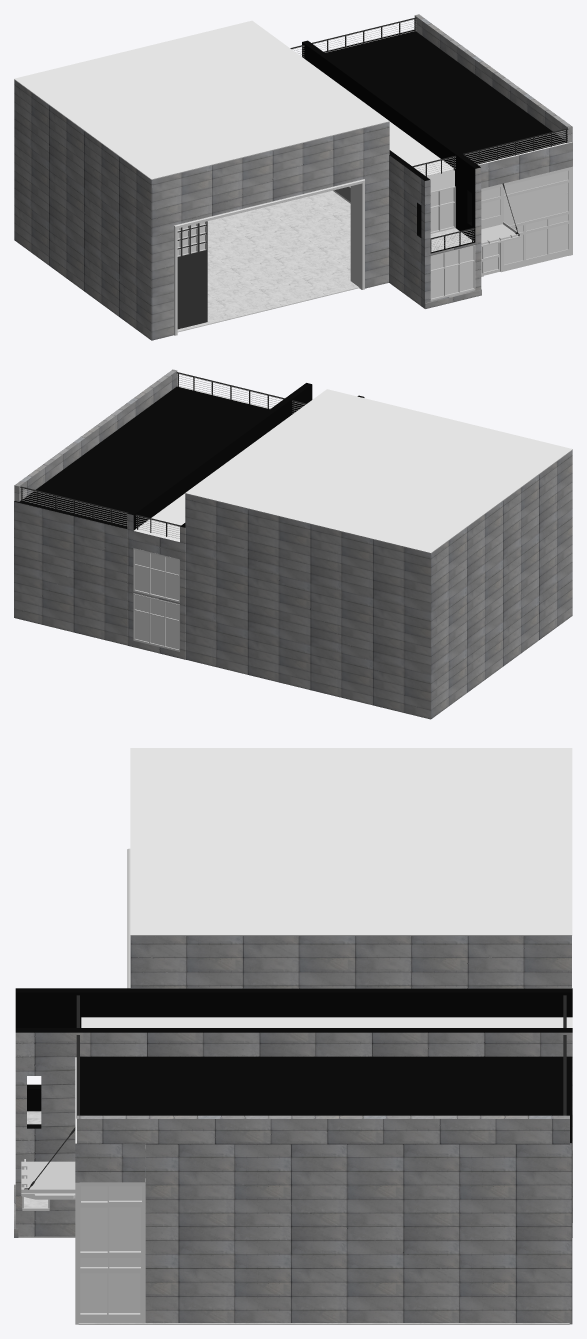
File: main building.fbx
3 renders of one model, top to bottom at view 1: azimuth 30°, elevation 25°; view 2: azimuth 150°, elevation 25°; view 3: azimuth 270°, elevation 25°, orthographic. The views are drawn at different scales.
Visible parts, largest first — view 1: Box001, Box004, Line003, Box002, Line005, Box005, Rectangle014, Rectangle001, Line001, Plane003, Plane004, Line002 (+6 smaller); view 2: Box001, Box004, Box002, Box005, Plane008, Plane007, Rectangle008, Rectangle007; view 3: Box004, Box001, Box002, Box005, Plane011, Rectangle001, Box035, Line003.
Part boxes in pixels (x1,y1,x2,y2): Box001: [14, 20, 389, 340]; Box004: [324, 30, 572, 188]; Line003: [177, 190, 359, 332]; Box002: [302, 40, 481, 308]; Line005: [481, 170, 567, 264]; Box005: [414, 14, 572, 142]; Rectangle014: [177, 221, 207, 329]; Rectangle001: [481, 166, 572, 272]; Line001: [174, 179, 364, 335]; Plane003: [431, 246, 473, 298]; Plane004: [430, 188, 453, 231]; Line002: [350, 185, 356, 284]; Box001: [185, 389, 572, 719]; Box004: [14, 386, 270, 645]; Box002: [127, 383, 364, 659]; Box005: [14, 369, 177, 501]; Plane008: [135, 595, 178, 649]; Plane007: [135, 550, 178, 600]; Rectangle008: [133, 593, 179, 651]; Rectangle007: [133, 548, 179, 602]; Box004: [75, 1056, 572, 1324]; Box001: [130, 748, 572, 988]; Box002: [15, 988, 572, 1237]; Box005: [77, 1115, 569, 1144]; Plane011: [80, 1186, 141, 1312]; Rectangle001: [75, 1178, 145, 1324]; Box035: [21, 1159, 75, 1199]; Line003: [18, 1197, 569, 1324].
Size of the model in its own units: 1340 by 998 by 517.
Materials: 11 (2 with a texture image).
